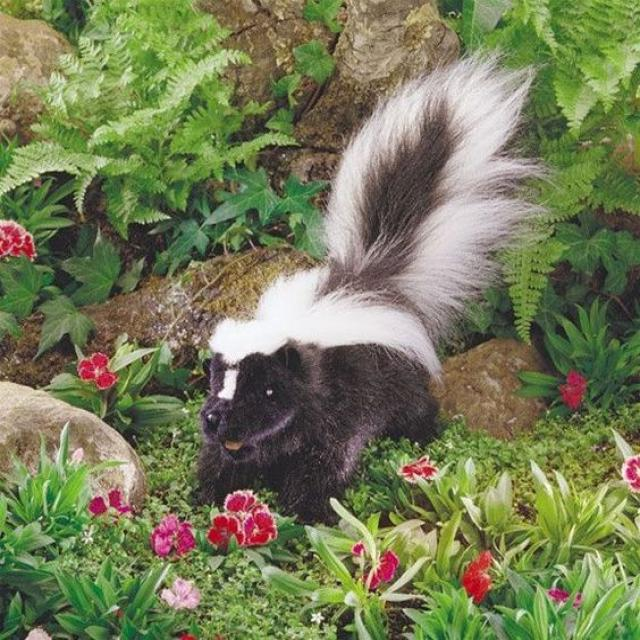Skunk: (101, 33, 528, 524)
